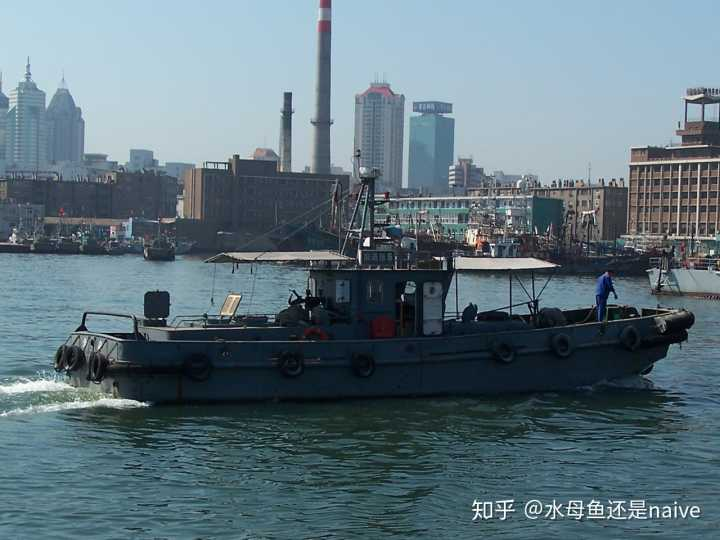otherboat: (53, 188, 687, 411)
